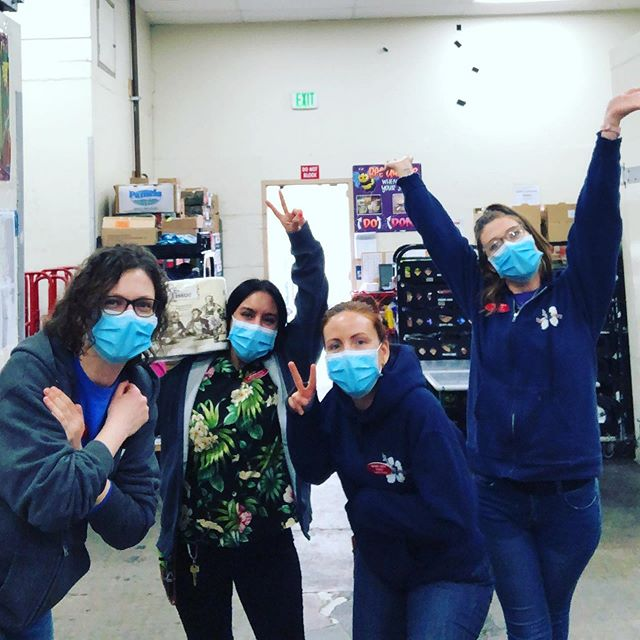surgical: (91, 307, 159, 366), (323, 350, 389, 401), (485, 236, 548, 282), (222, 317, 280, 365)
